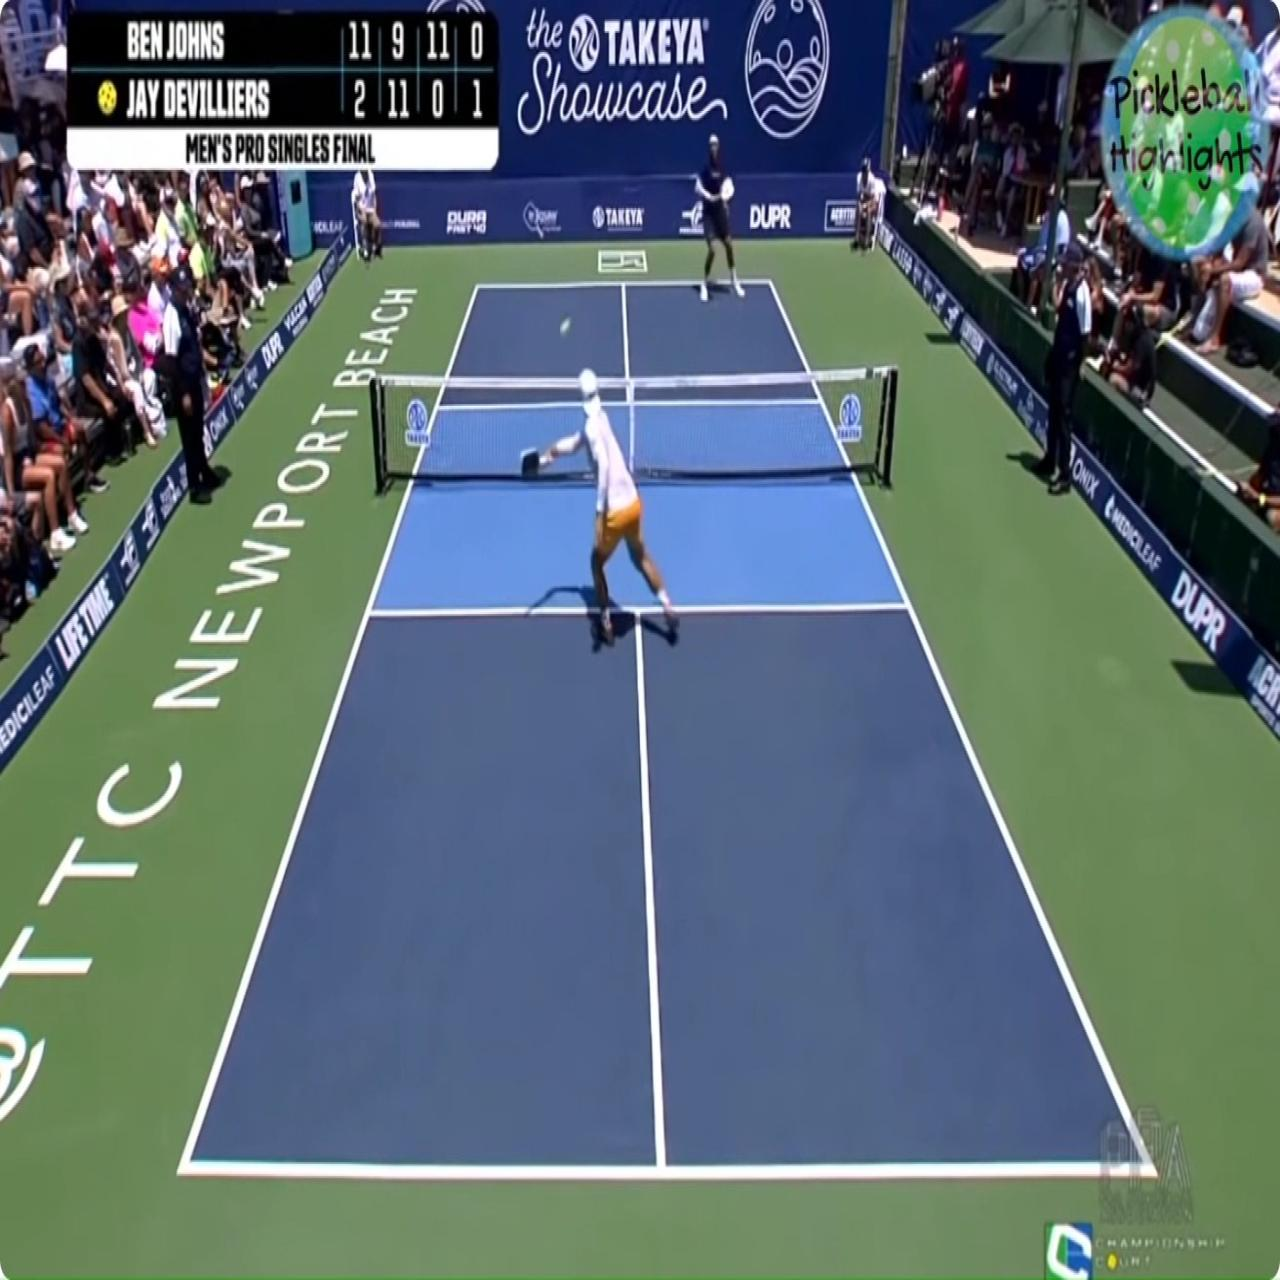pickleball: (559, 315, 571, 336)
